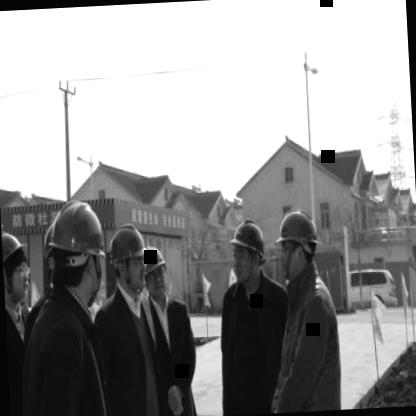helmet: (46, 199, 108, 308), (274, 206, 322, 284), (108, 220, 148, 296), (228, 216, 268, 287), (2, 230, 32, 302), (141, 244, 166, 298)
